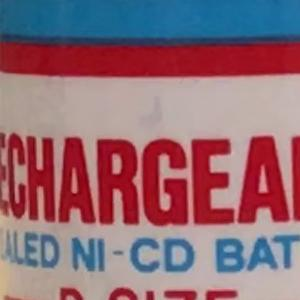keyword: (56, 228, 205, 281)
